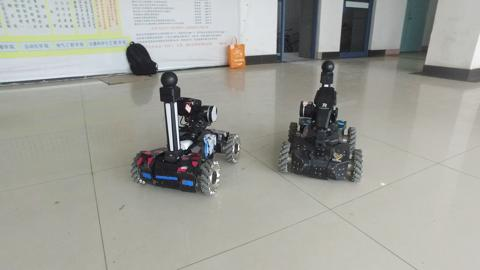chariot: (124, 70, 242, 205), (275, 54, 368, 189)
